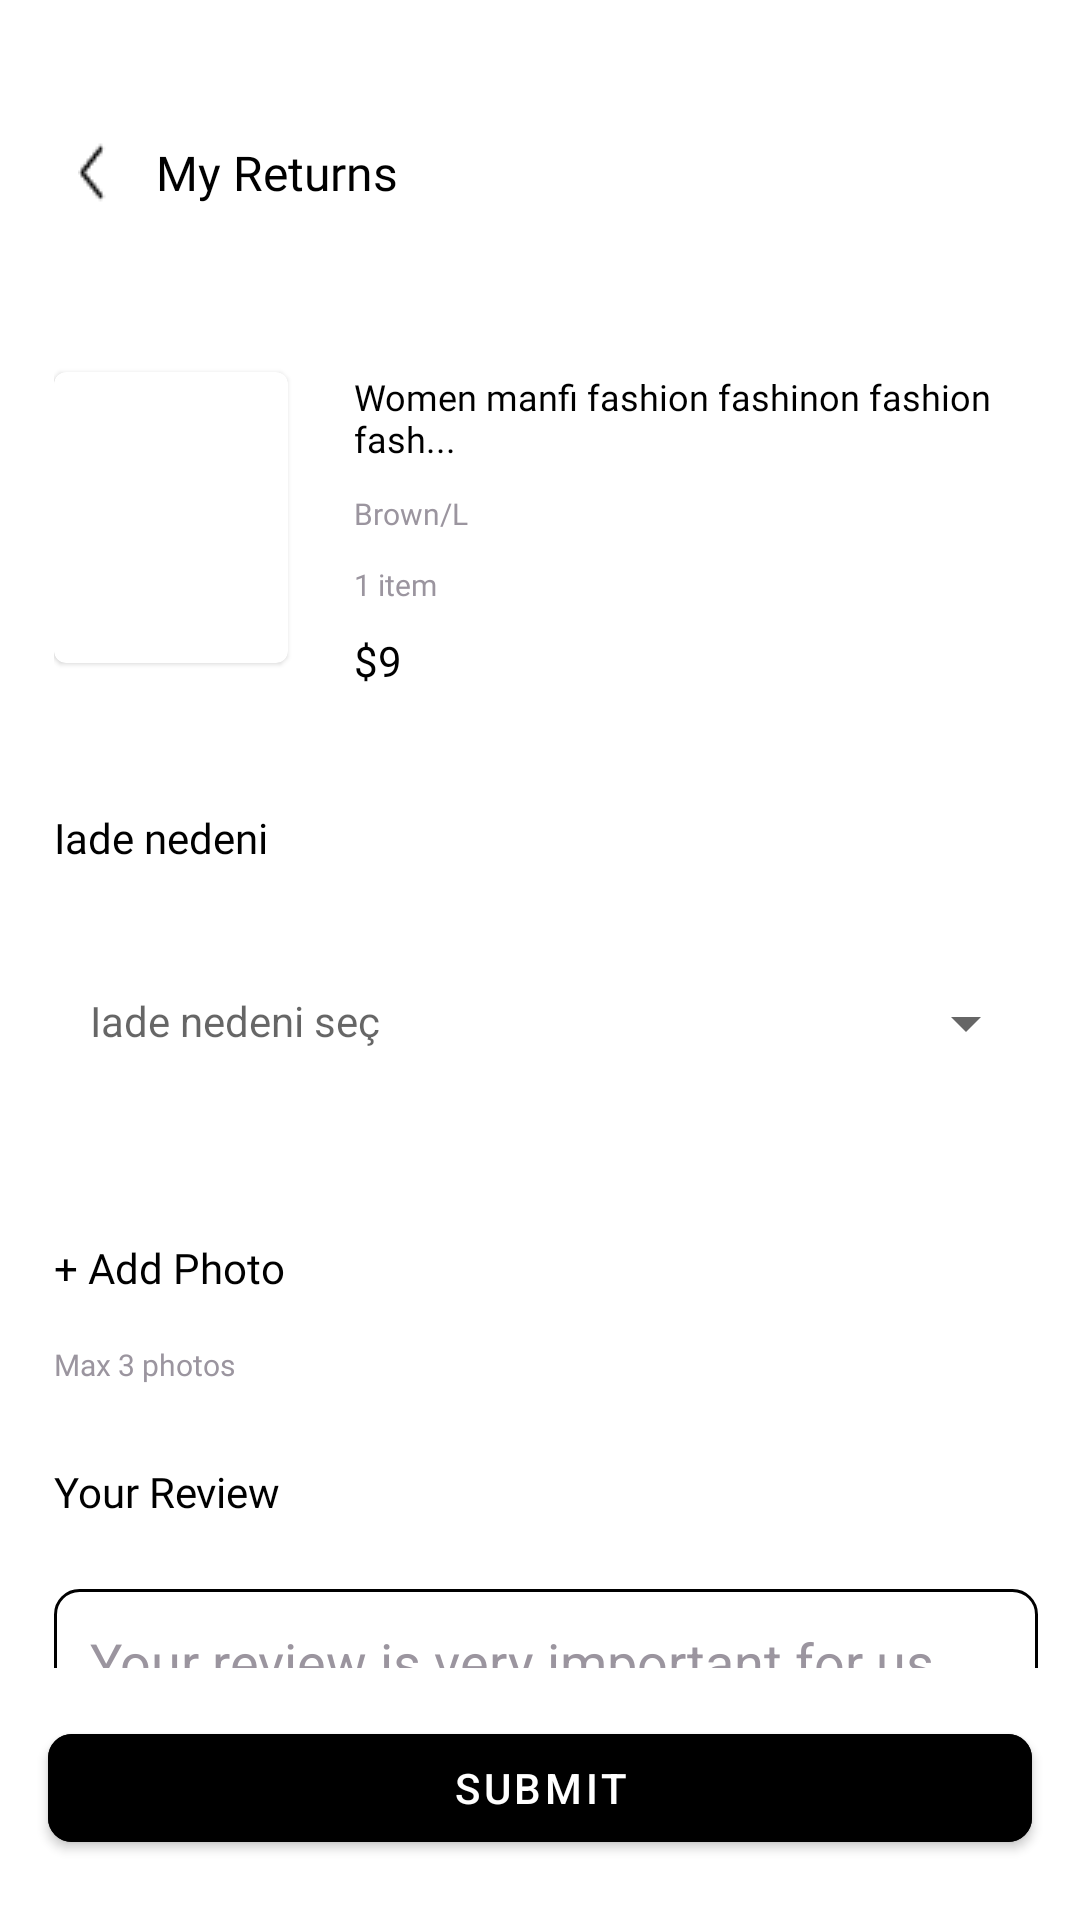

Icon bounding boxes for this 1080 x 1920 phone screenshot, format (x1, y1, x2, y2):
back: (78, 144, 104, 200)
